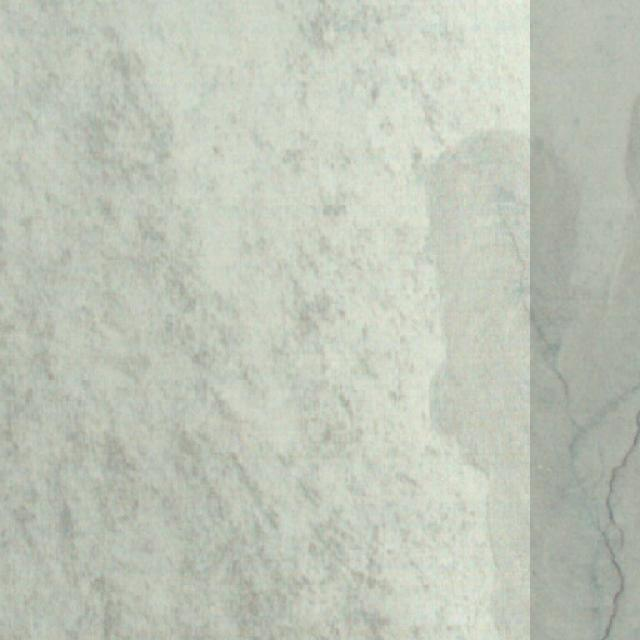Network: (360, 0, 640, 640)
